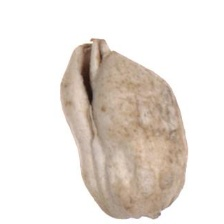L1: (75, 33, 113, 103), (129, 208, 171, 220)
L2: (60, 38, 188, 220)
